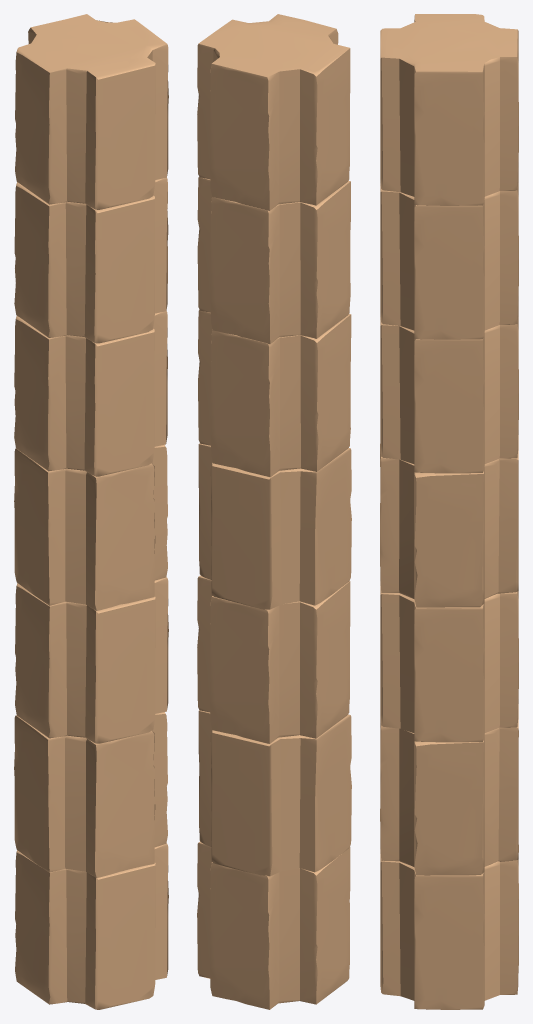
The model's file is Cluster_stone_02_line_01.fbx.
3 renders of one model, left to right at view 1: azimuth 30°, elevation 25°; view 2: azimuth 150°, elevation 25°; view 3: azimuth 270°, elevation 25°, orthographic.
Parts seen in each view (by area): view 1: Cluster_stone_02_line_01_LOD0; view 2: Cluster_stone_02_line_01_LOD0; view 3: Cluster_stone_02_line_01_LOD0.
Boxes of the visible parts, bbox=[...] form: Cluster_stone_02_line_01_LOD0: bbox=[14, 14, 168, 1009]; Cluster_stone_02_line_01_LOD0: bbox=[197, 14, 351, 1009]; Cluster_stone_02_line_01_LOD0: bbox=[380, 14, 518, 1009].
Size of what is drawn, in the model's own units: 130 by 956 by 128.
